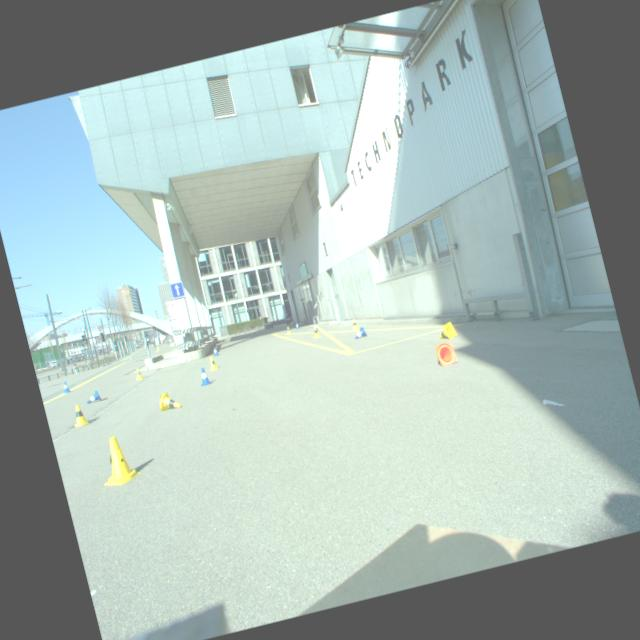blue_cone: (196, 366, 213, 386), (84, 389, 101, 404), (352, 326, 367, 339), (60, 379, 71, 394), (211, 345, 220, 356), (312, 322, 318, 331), (294, 321, 300, 329)
orange_cone: (434, 340, 458, 368)
yellow_cone: (93, 432, 143, 489), (156, 389, 182, 412), (70, 402, 90, 428), (436, 321, 458, 342), (206, 355, 218, 370), (132, 367, 144, 380), (350, 318, 359, 331), (311, 326, 320, 338), (285, 326, 292, 334)
